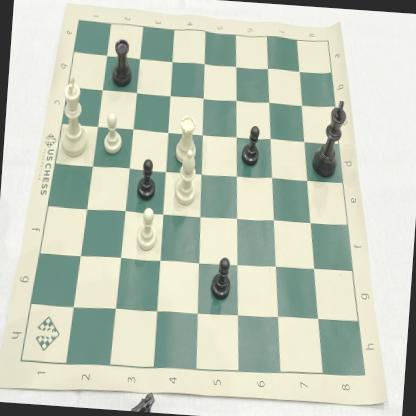black-king: (310, 97, 350, 181)
black-pawn: (207, 252, 236, 306), (134, 156, 159, 204), (240, 119, 262, 172)
black-rook: (108, 36, 138, 92)
white-bishop: (170, 144, 202, 212)
white-king: (56, 70, 96, 163)
white-pawn: (131, 206, 162, 256), (101, 108, 127, 158)
white-rook: (172, 110, 201, 168)
